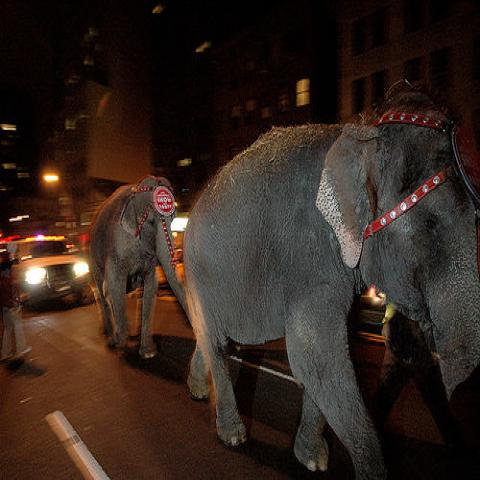car: (18, 238, 90, 306), (157, 243, 188, 292)
